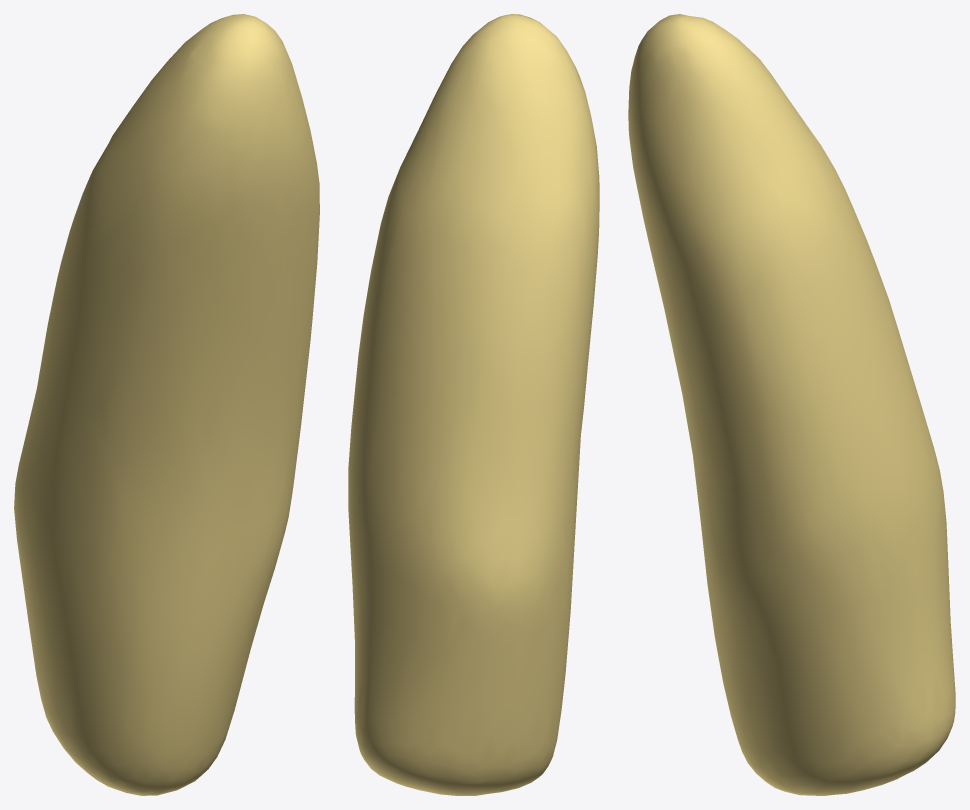
File: fma73564_mm3596m.glb
3 views of the same model, side by side, from view 1: azimuth 30°, elevation 25°; view 2: azimuth 150°, elevation 25°; view 3: azimuth 270°, elevation 25° (orthographic). The views are drawn at different scales.
Visible parts, largest first — view 1: FMA73564_MM3596M; view 2: FMA73564_MM3596M; view 3: FMA73564_MM3596M.
Boxes of the visible parts, x1=… form: FMA73564_MM3596M: x1=14, y1=14, x2=319, y2=795; FMA73564_MM3596M: x1=348, y1=14, x2=599, y2=795; FMA73564_MM3596M: x1=628, y1=14, x2=955, y2=795.
Size of the model in its own units: 0.00359 by 0.0116 by 0.00443.
